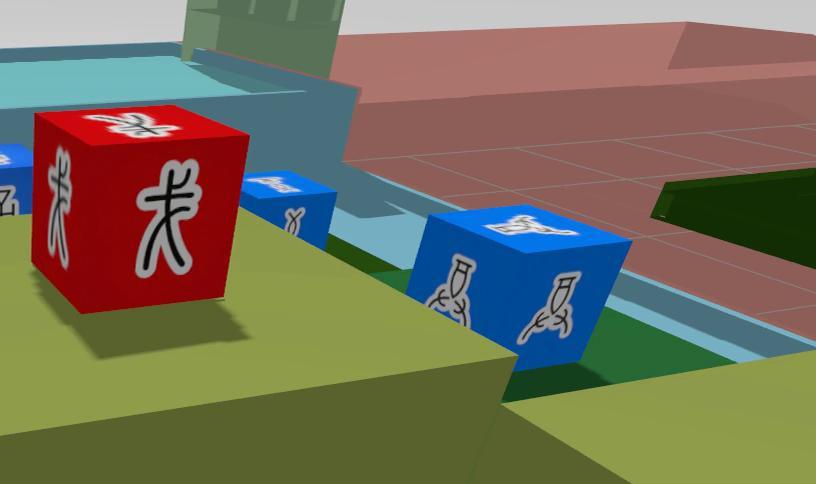KFS_FAKE: (33, 105, 249, 312), (136, 159, 201, 278), (47, 147, 71, 268), (85, 110, 179, 137)
KFS_REAL: (406, 205, 631, 369), (240, 171, 336, 247), (517, 271, 581, 344), (425, 255, 475, 327), (0, 143, 36, 215)
